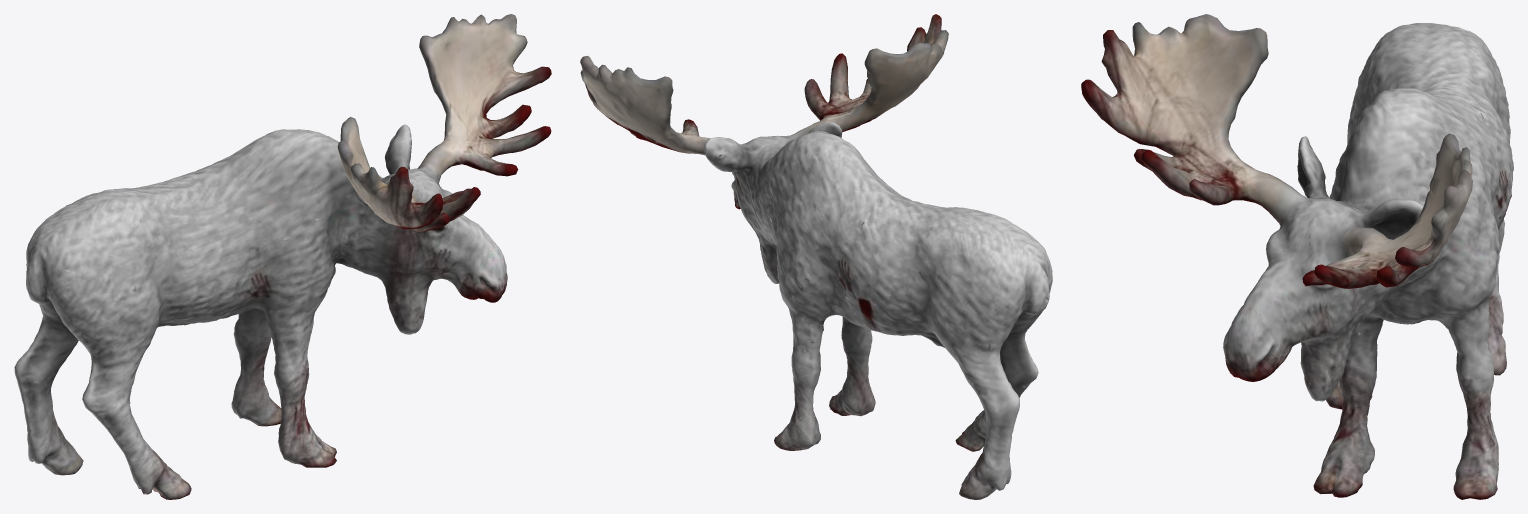
The model's file is MZ4250 - The White Moose.glb.
The picture shows the model from 3 angles, left to right: view 1: azimuth 30°, elevation 25°; view 2: azimuth 150°, elevation 25°; view 3: azimuth 270°, elevation 25°; orthographic projection. The views are drawn at different scales.
Visible parts, largest first — view 1: Moose.002; view 2: Moose.002; view 3: Moose.002.
Part boxes in pixels (left/top/right/bottom): Moose.002: left=14, top=14, right=551, bottom=499; Moose.002: left=580, top=14, right=1052, bottom=499; Moose.002: left=1081, top=14, right=1513, bottom=499.
Bounding box in the file's own units: 197 × 136 × 115.
1 material, 1 textured.
